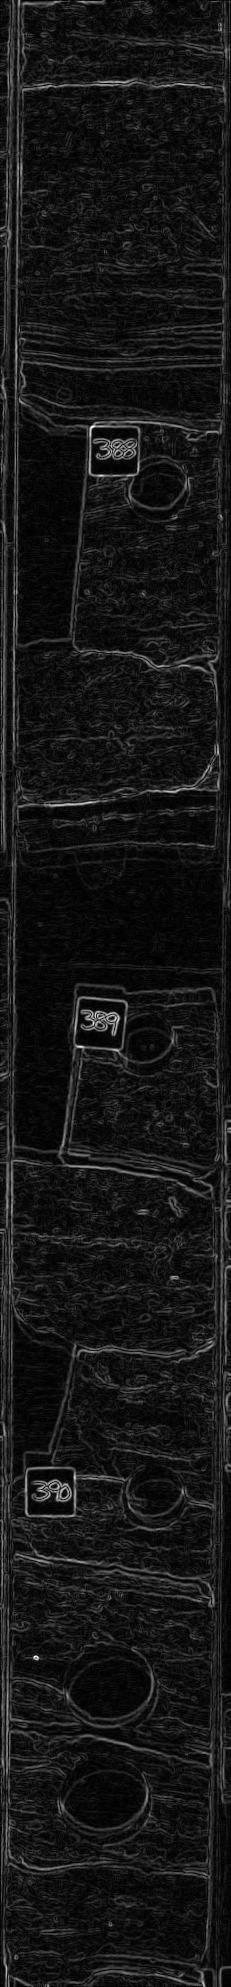hplug: (115, 1461, 193, 1535), (110, 1007, 183, 1078), (121, 455, 193, 525)
scal: (55, 1751, 156, 1851), (58, 1639, 162, 1735)
vplug: (16, 394, 93, 661), (11, 1307, 82, 1494), (18, 999, 82, 1170)
